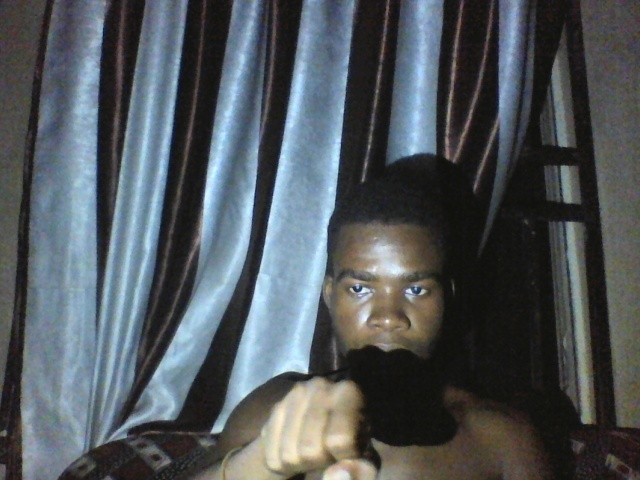yes: (255, 368, 405, 480)
